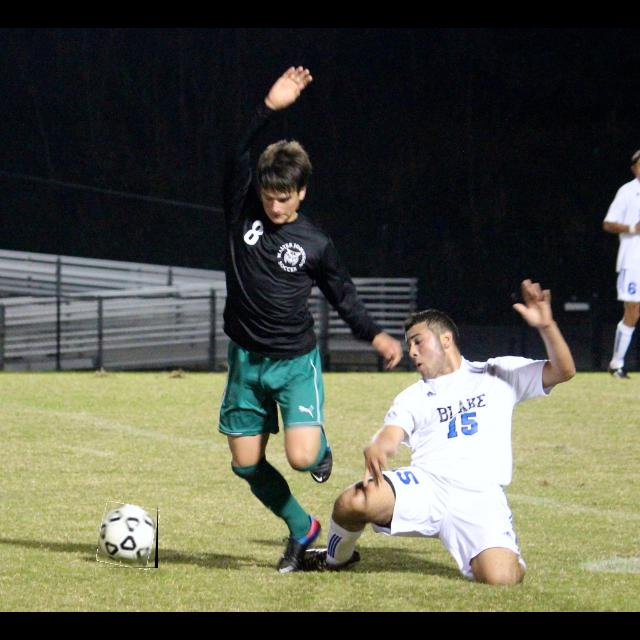Football: (98, 504, 158, 568)
